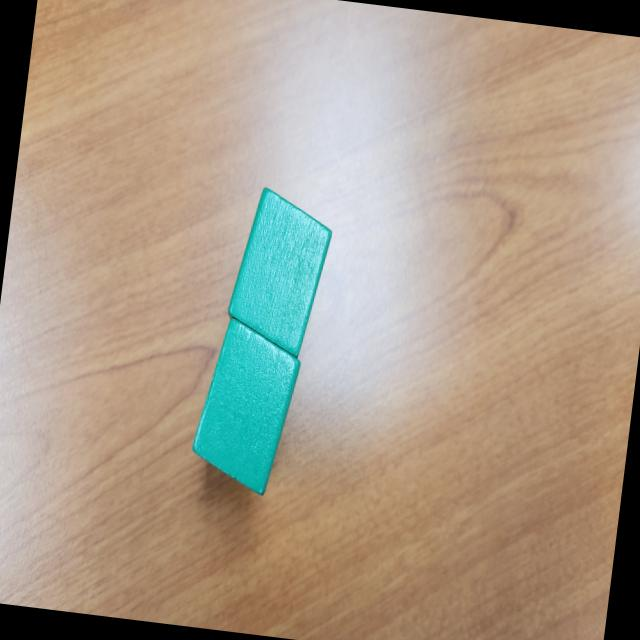green: (185, 312, 308, 500), (220, 182, 338, 360)
